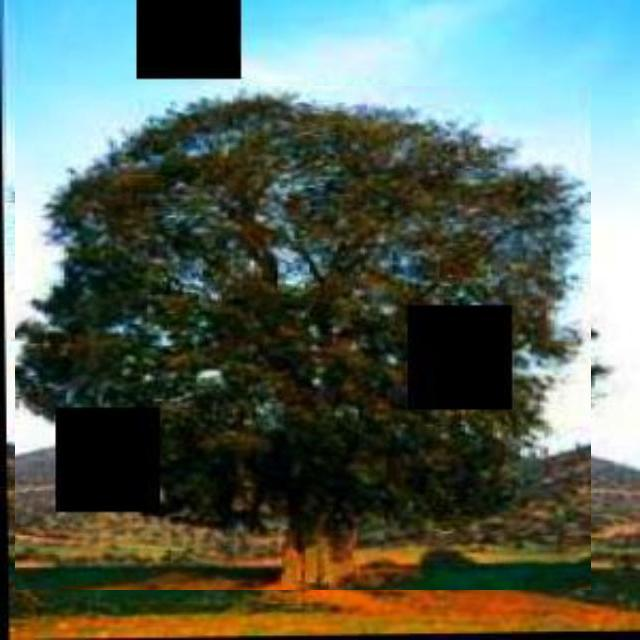tree: (15, 86, 591, 590)
